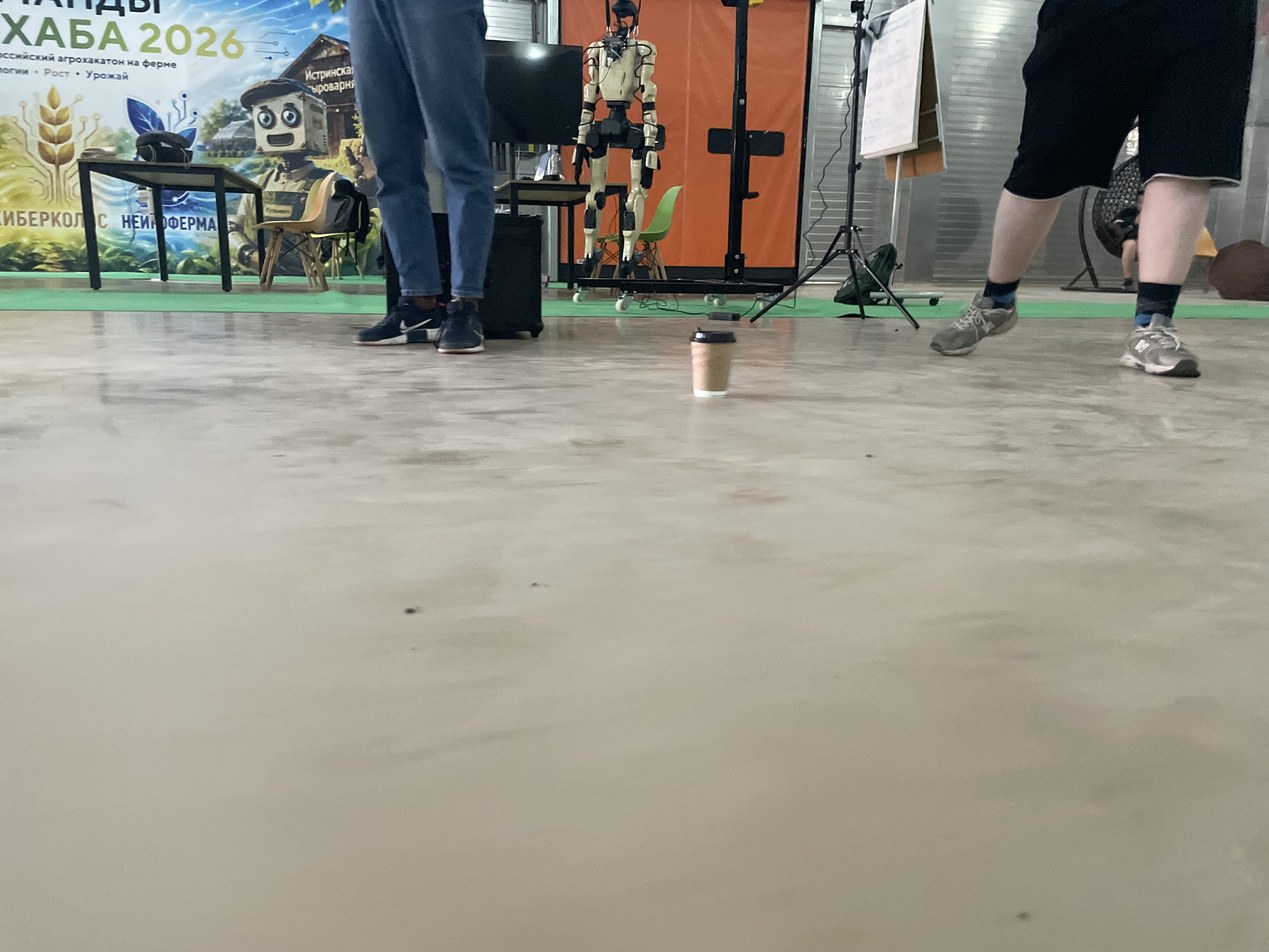cup: (689, 326, 737, 398)
